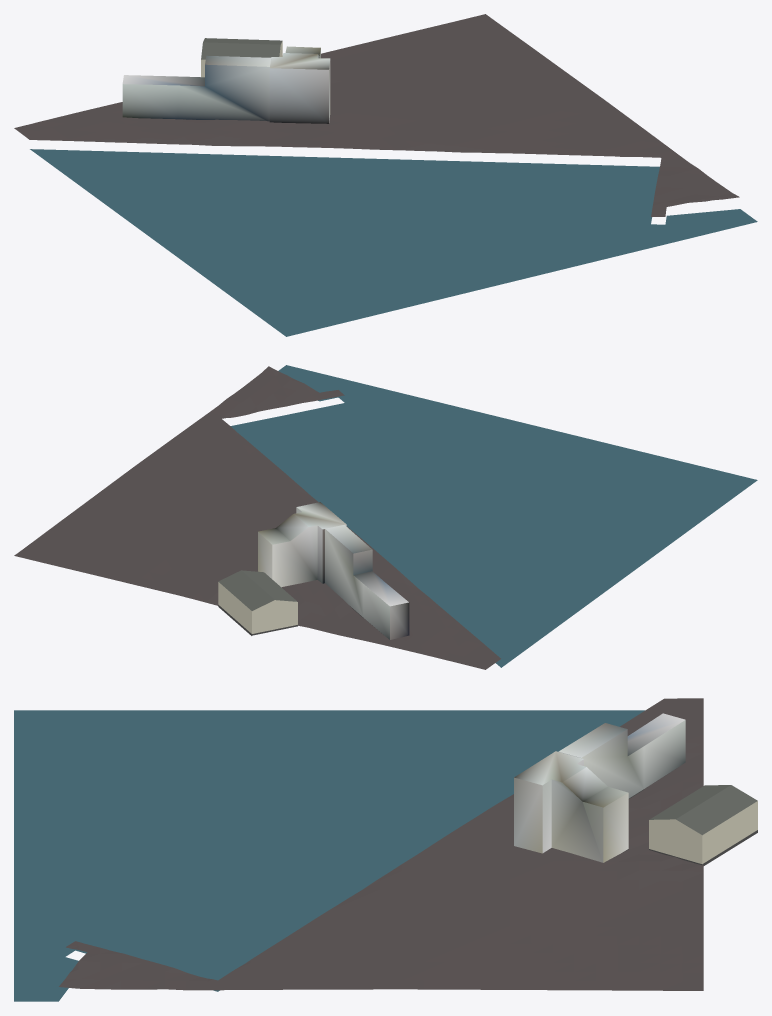
3 views of the same model, one above another, from view 1: azimuth 30°, elevation 25°; view 2: azimuth 150°, elevation 25°; view 3: azimuth 270°, elevation 25° (orthographic). The views are drawn at different scales.
Parts seen in each view (by area): view 1: c_p05_p04; view 2: c_p05_p04; view 3: c_p05_p04.
Boxes of the visible parts, x1=… form: c_p05_p04: x1=14, y1=14, x2=757, y2=336; c_p05_p04: x1=14, y1=365, x2=757, y2=669; c_p05_p04: x1=14, y1=698, x2=757, y2=1001.
Size of the model in its own units: 128 by 16.66 by 138.
